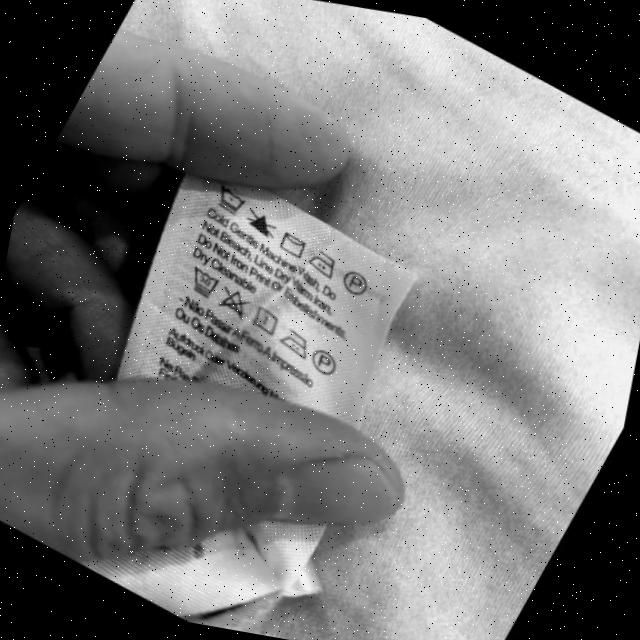ER_dry_clean_chemical: (342, 266, 369, 299), (310, 346, 337, 378)
ER_flat_dry: (253, 303, 278, 336)
ER_iron_medium_temp: (309, 249, 338, 278), (281, 329, 307, 360)
ER_no_bleach: (248, 207, 277, 239), (220, 287, 245, 322)
ER_wash_30_mild: (190, 267, 220, 299)
